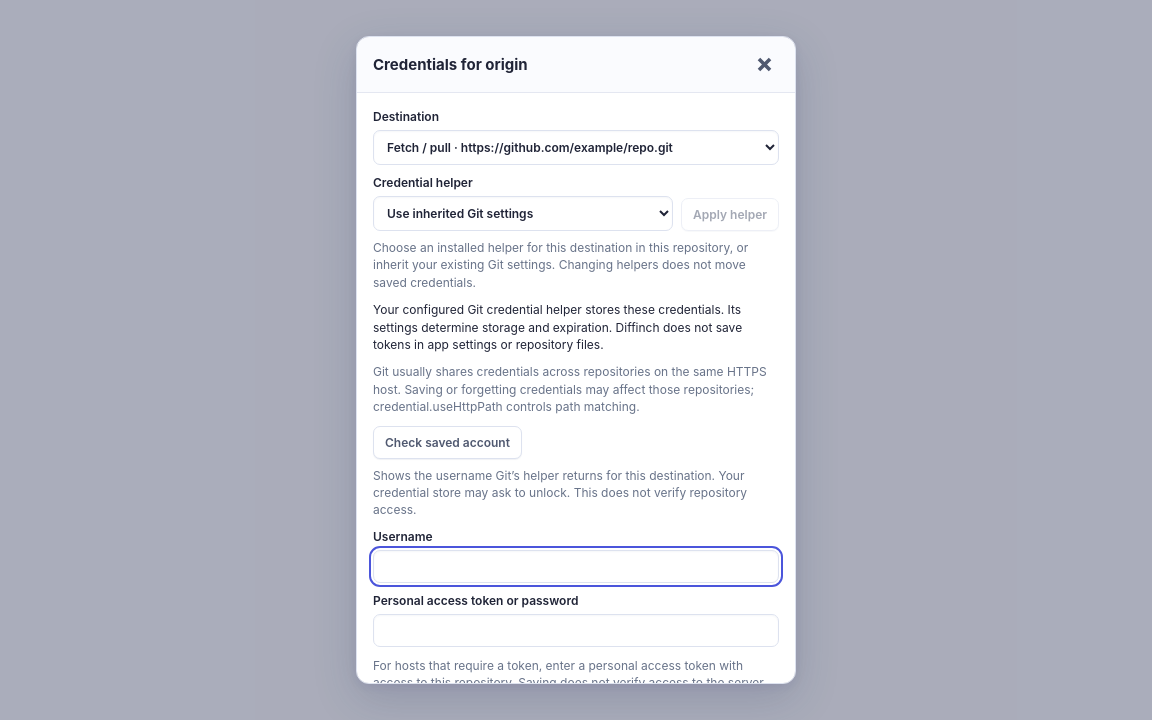
saves to the selected push destination and keeps helper failures recoverable
Select "Push · https://push.example.invalid/repo" in the dropdown labelled "Destination": (576, 148) x1=373 y1=130 x2=779 y2=165
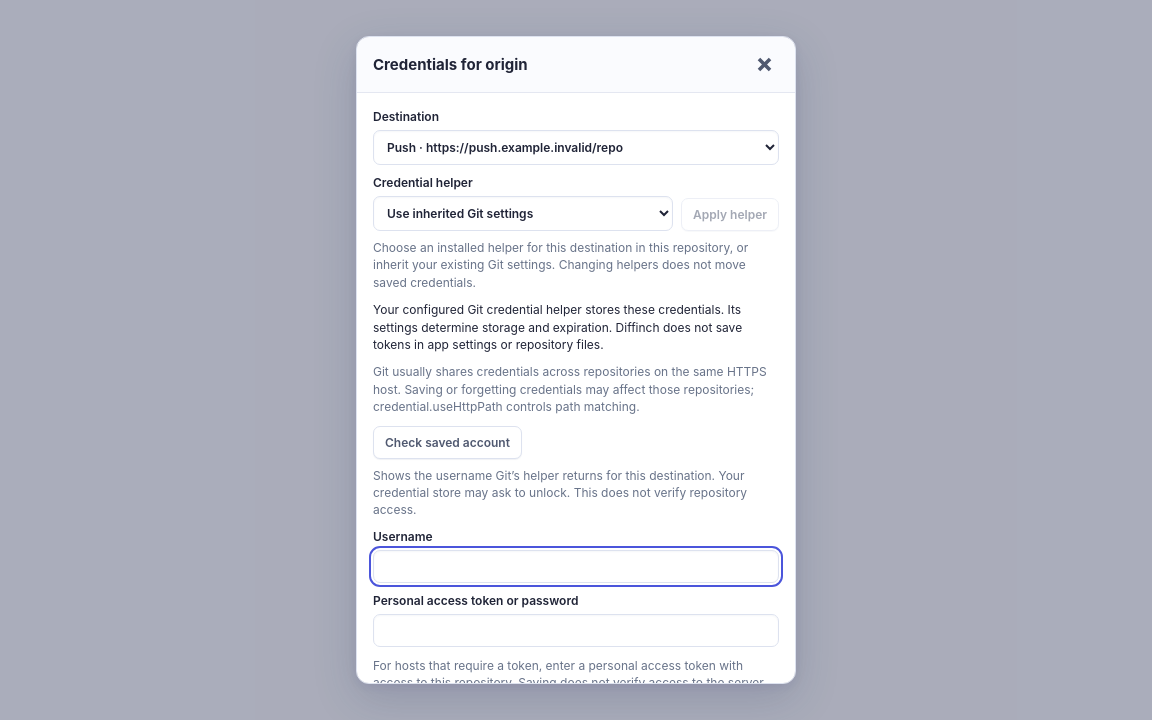
In the field labelled "Username": (576, 566) x1=373 y1=550 x2=779 y2=583, type "push-user"
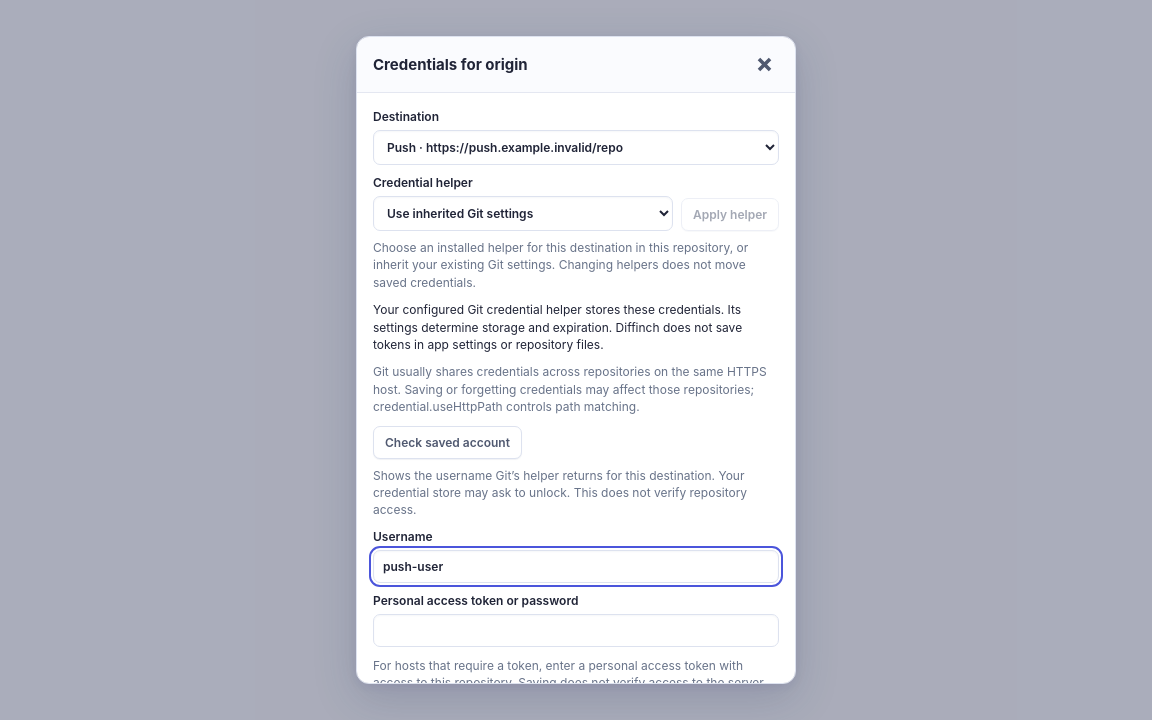
In the password field labelled "Personal access token or password": (576, 630) x1=373 y1=614 x2=779 y2=647, type "push-token"
(page scrolled)
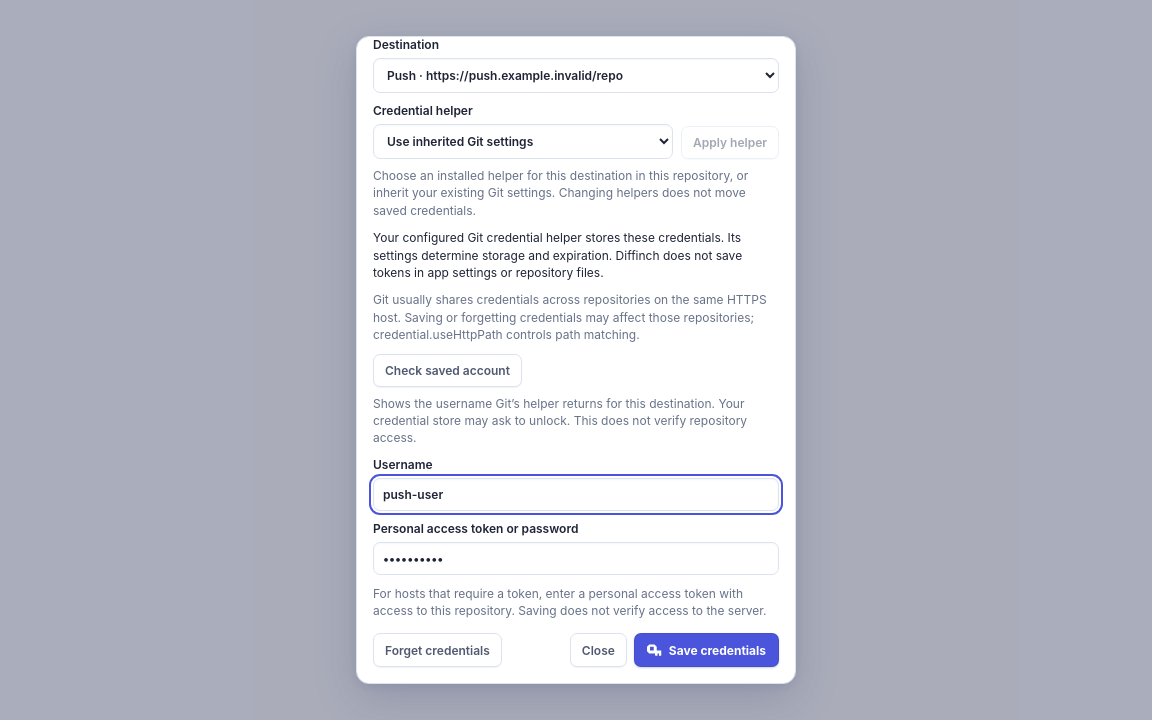
Click the button "Save credentials": (706, 650) x1=634 y1=634 x2=779 y2=668
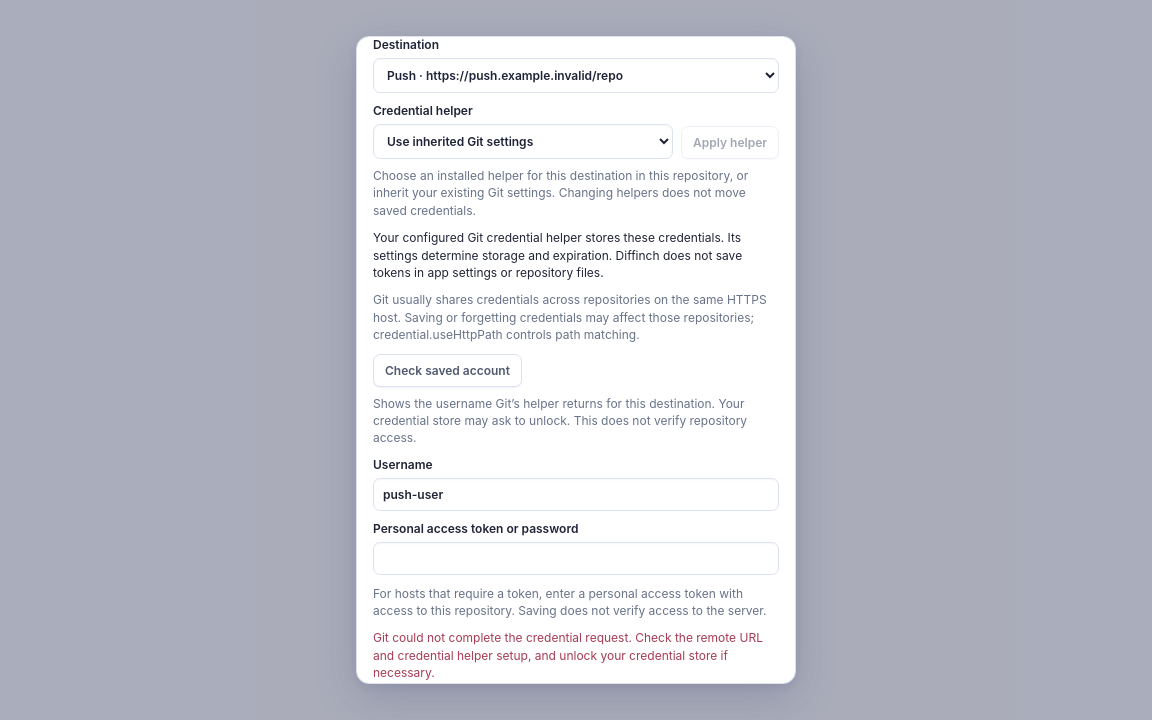
Expected: the message shows "Git could not complete the credential request", x1=373 y1=630 x2=763 y2=680
Expected: the password field labelled "Personal access token or password" is empty, x1=373 y1=542 x2=779 y2=575
